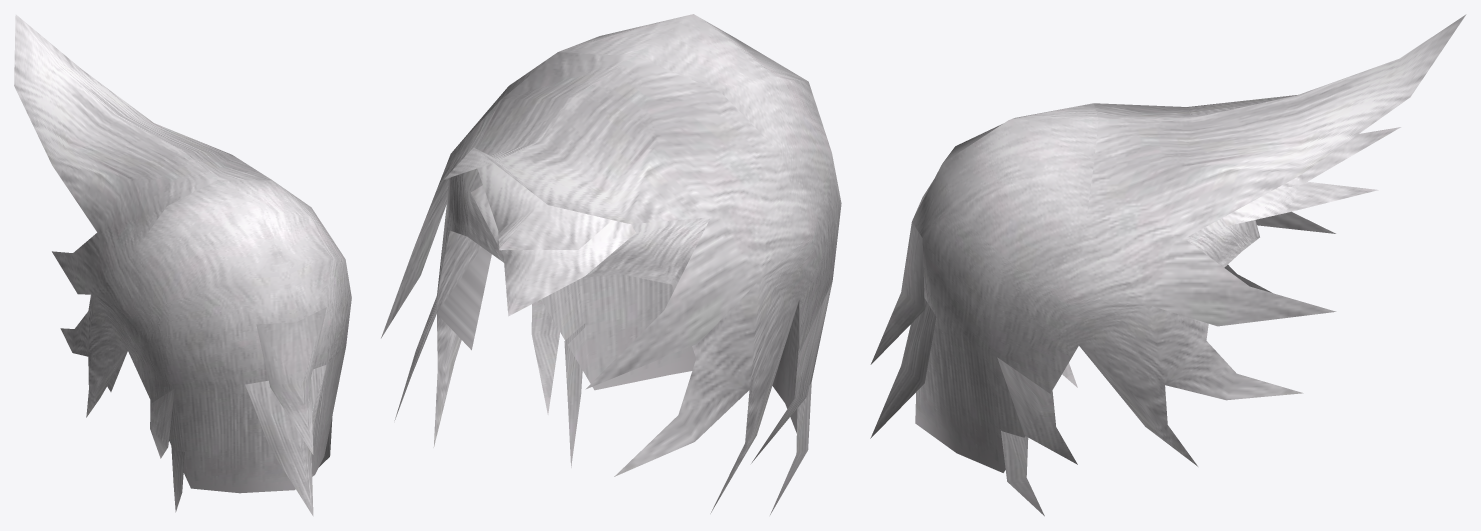
Rendered from Martial arts male hair 29.glb.
3 renders of one model, left to right at view 1: azimuth 30°, elevation 25°; view 2: azimuth 150°, elevation 25°; view 3: azimuth 270°, elevation 25°, orthographic. The views are drawn at different scales.
Visible parts, largest first — view 1: 武侠男头发01_0; view 2: 武侠男头发01_0; view 3: 武侠男头发01_0.
Part boxes in pixels (left/top/right/bottom): 武侠男头发01_0: left=14, top=14, right=351, bottom=516; 武侠男头发01_0: left=381, top=14, right=841, bottom=514; 武侠男头发01_0: left=870, top=14, right=1466, bottom=516.
Size of the model in its own units: 0.1709 by 0.2893 by 0.3576.
1 material, 1 textured.
